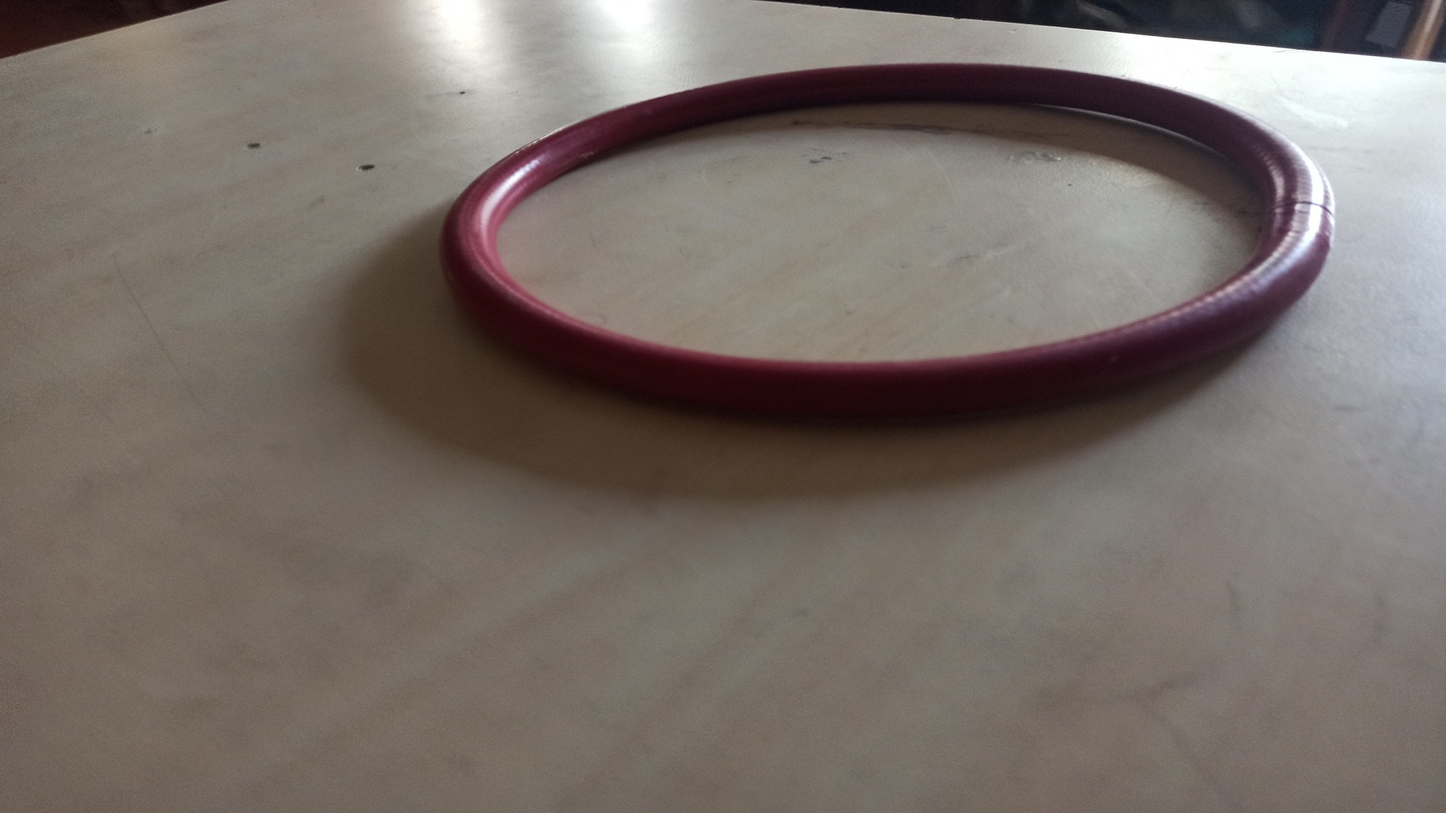Red ring: (442, 57, 1333, 409)
